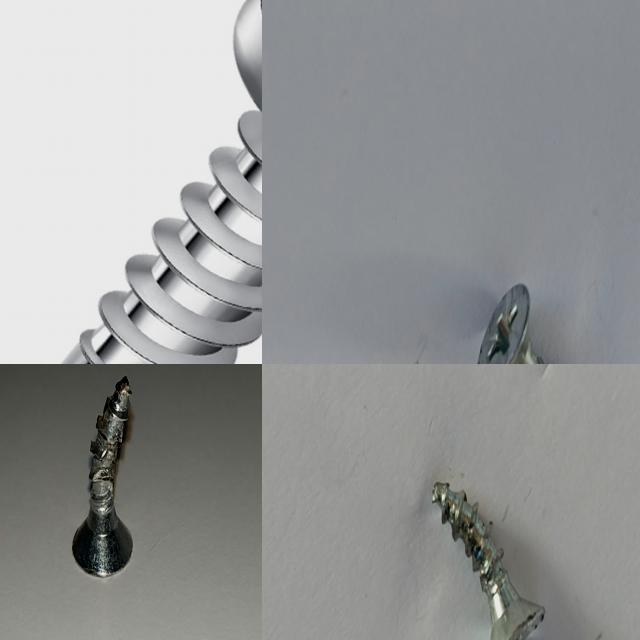Screw: (46, 0, 262, 364), (433, 481, 545, 640), (72, 375, 133, 577), (479, 283, 545, 364)
